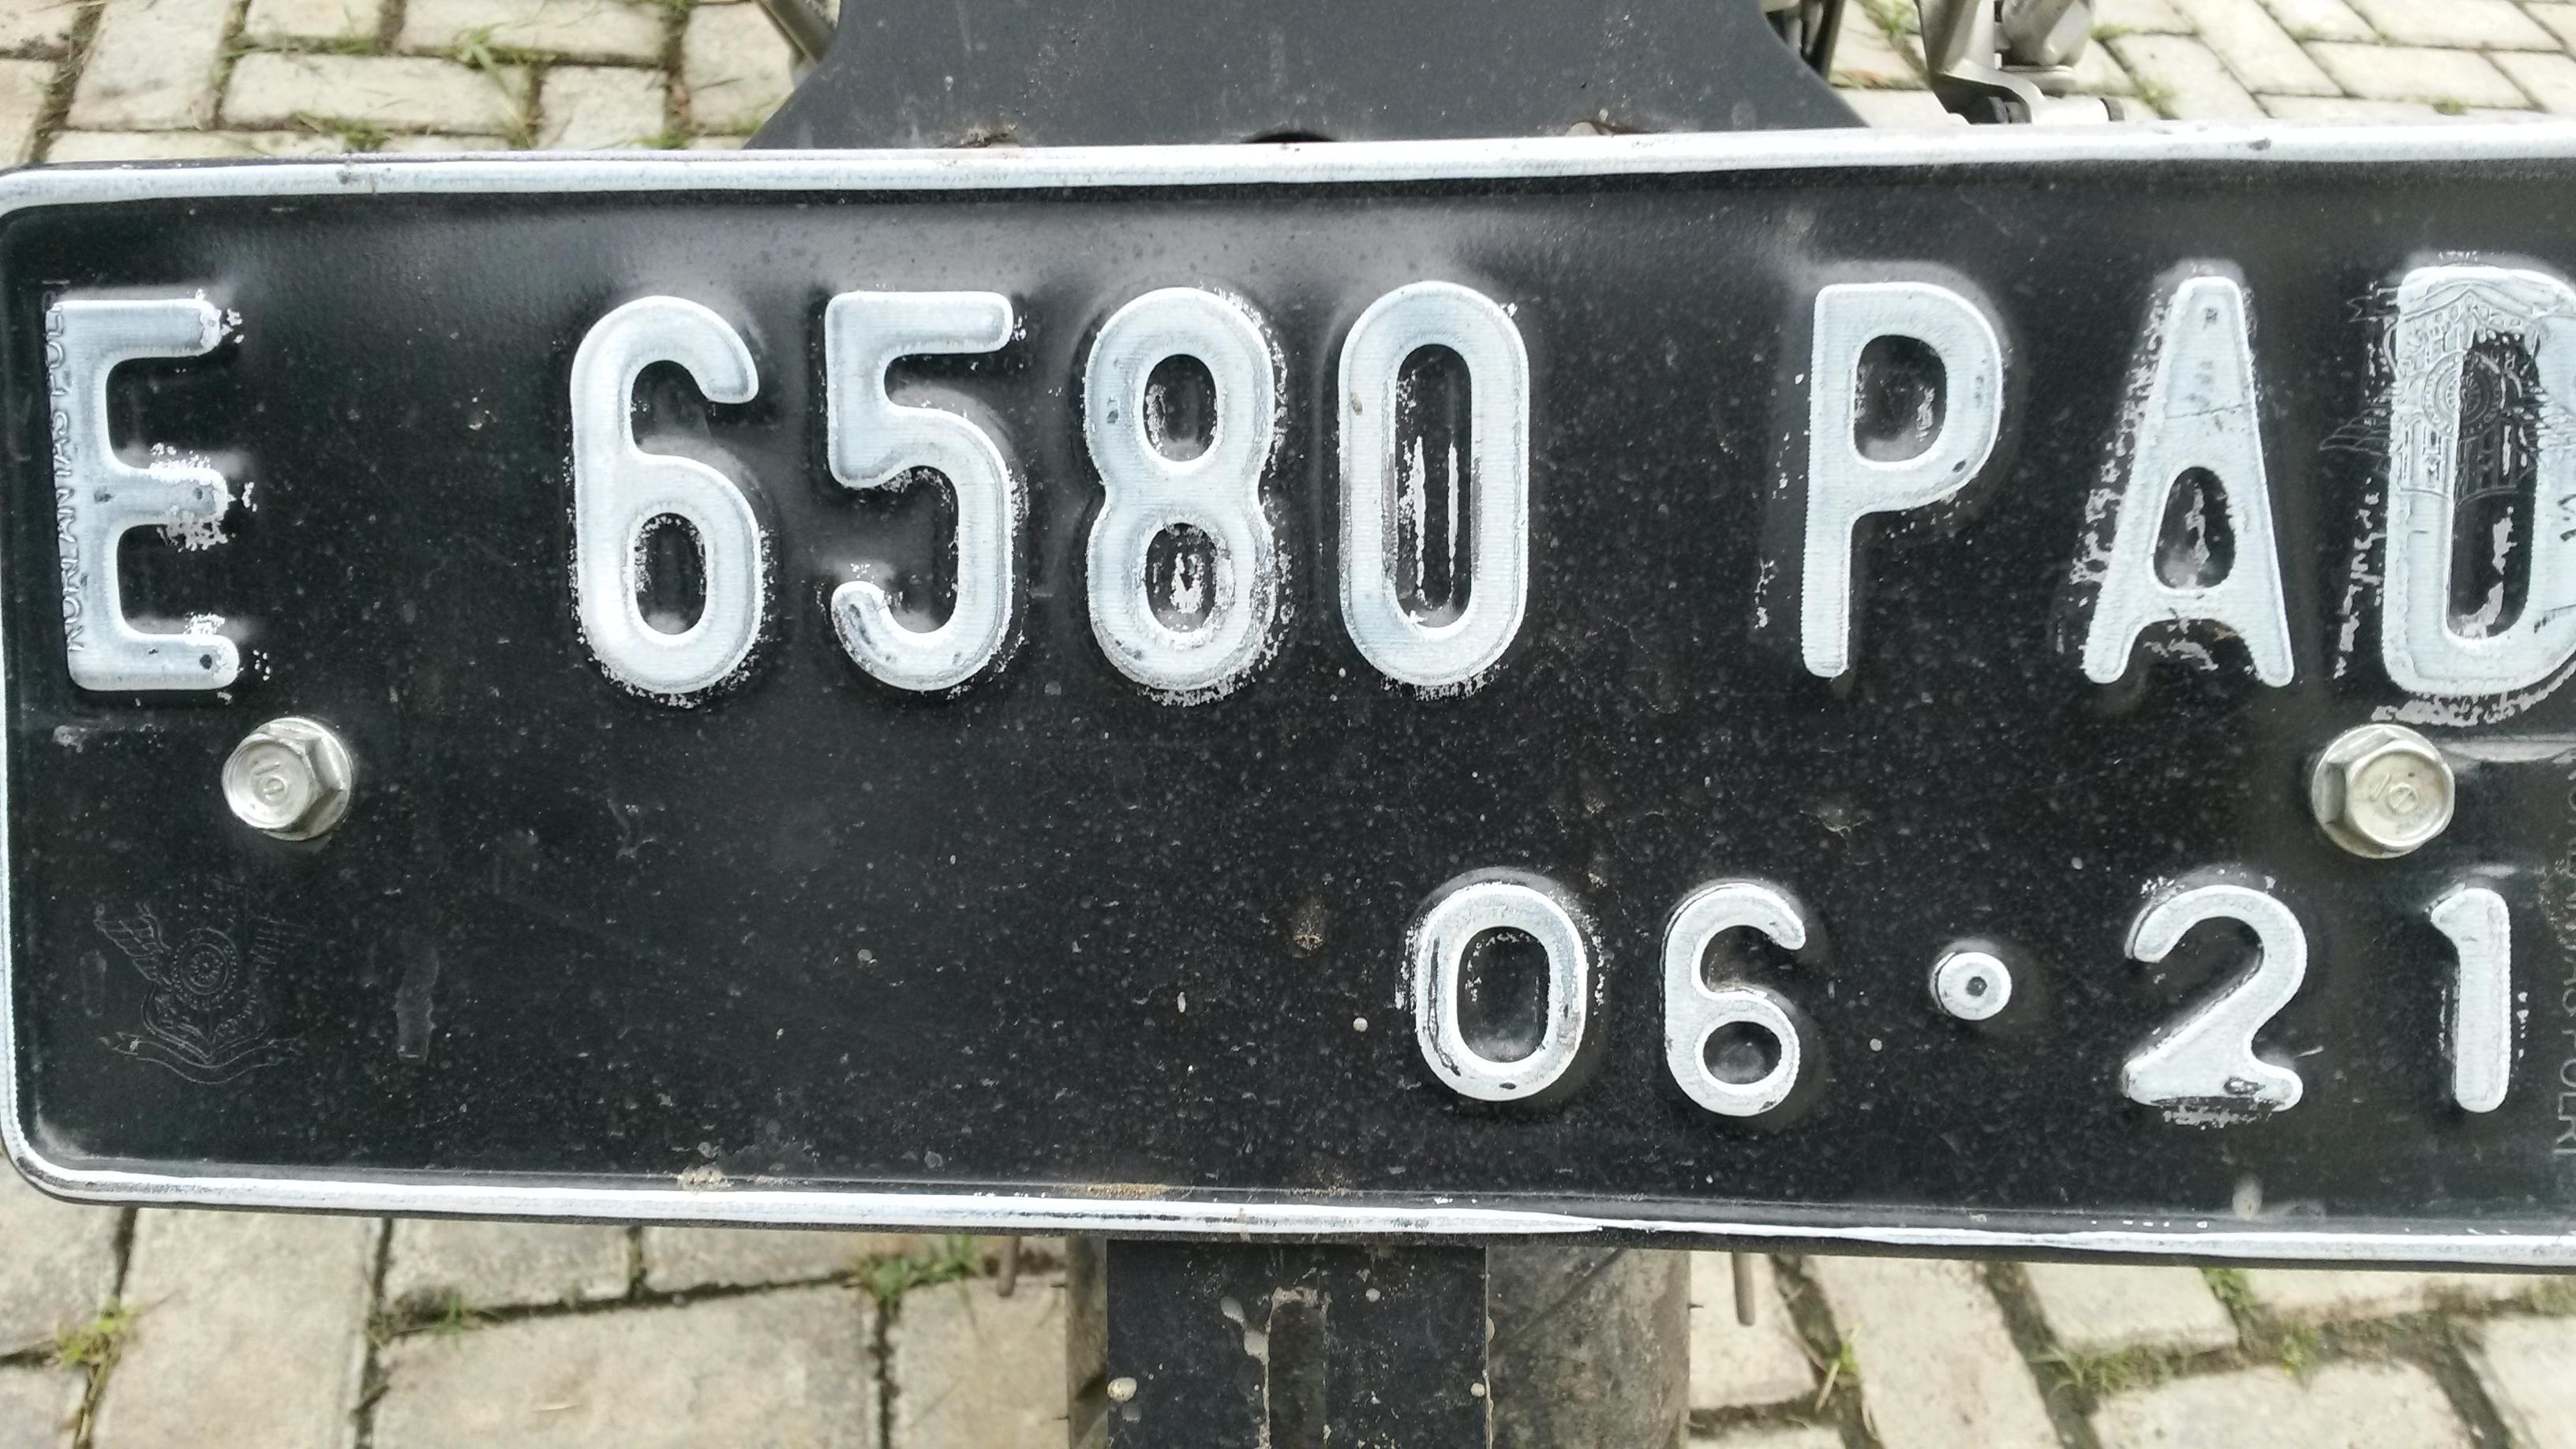0: (1313, 260, 1582, 717)
5: (794, 272, 1072, 715)
6: (527, 288, 791, 722)
8: (1054, 269, 1304, 722)
A: (2036, 234, 2316, 720)
D: (2316, 244, 2564, 732)
E: (19, 288, 326, 717)
P: (1729, 237, 2042, 709)
